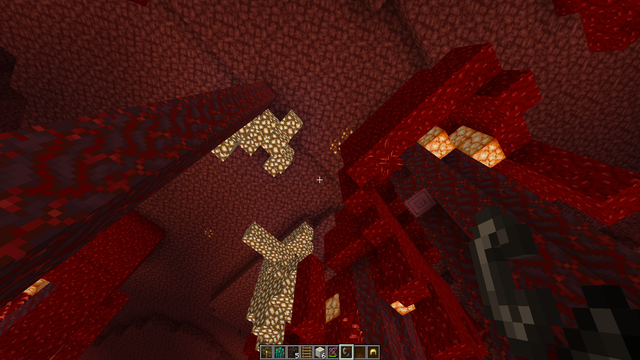nethergold: (326, 123, 362, 157), (200, 225, 215, 240)
